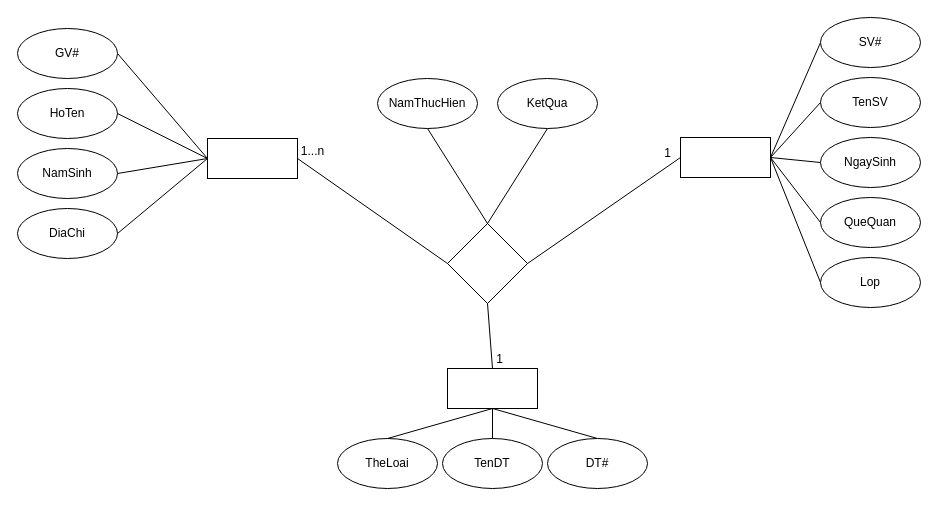
Image size: 938x506. Some labels were removed from this diagram. Here are the shapes that lost their labels. From the top down, the centre of each, then its label:
At [252,158]: "GiaoVien".
At [725,157]: "SinhVien".
At [487,263]: "HuongDan".
At [492,388]: "DeTai".
